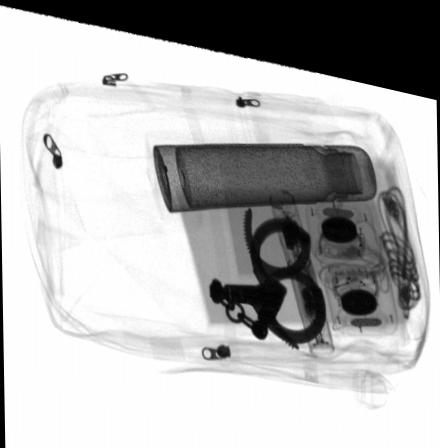Baton: (266, 174, 334, 341)
HandCuffs: (206, 193, 327, 336)
